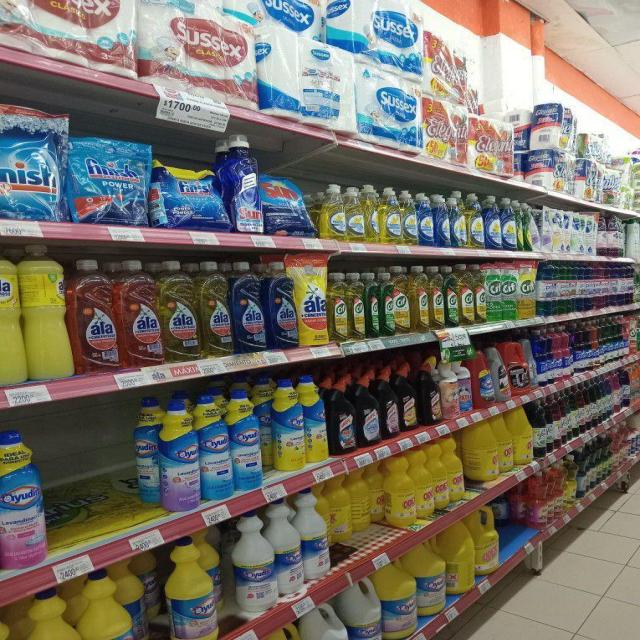ala_conc_amarillo: (162, 260, 199, 362), (200, 260, 232, 357)
ala_conc_azul: (233, 260, 266, 352), (267, 261, 297, 349), (330, 378, 356, 455), (357, 374, 380, 448)
ala_conc_rojo: (72, 258, 119, 374), (119, 258, 162, 368), (381, 368, 400, 439)
ala_crem_amarillo: (0, 243, 22, 386)
ala_sachet_amarillo: (298, 252, 327, 347)
cif_conc_bot_amarilla: (328, 271, 348, 342), (347, 272, 365, 341), (411, 265, 429, 332), (393, 265, 410, 335), (429, 265, 444, 329), (459, 264, 474, 326), (474, 265, 486, 324)
cif_conc_botella_verde: (380, 268, 394, 336), (366, 270, 380, 338), (445, 265, 458, 327)
cif_conc_sachet_amarillo: (519, 260, 535, 319)
cif_conc_sachet_verde: (486, 263, 502, 322), (502, 261, 517, 320)
magistral_con_amarillo: (320, 183, 346, 240), (380, 186, 401, 244), (345, 185, 364, 242), (466, 192, 484, 248), (401, 189, 417, 245), (364, 184, 379, 243), (451, 191, 466, 248)
magistral_con_azul: (417, 192, 434, 246), (485, 195, 501, 250), (434, 193, 450, 247), (502, 197, 517, 251)
